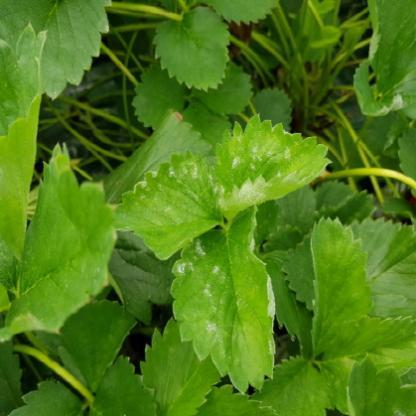Strawberry_Powdery_Mildew_Leaf: (169, 205, 276, 396), (211, 113, 333, 221), (111, 150, 225, 262)
